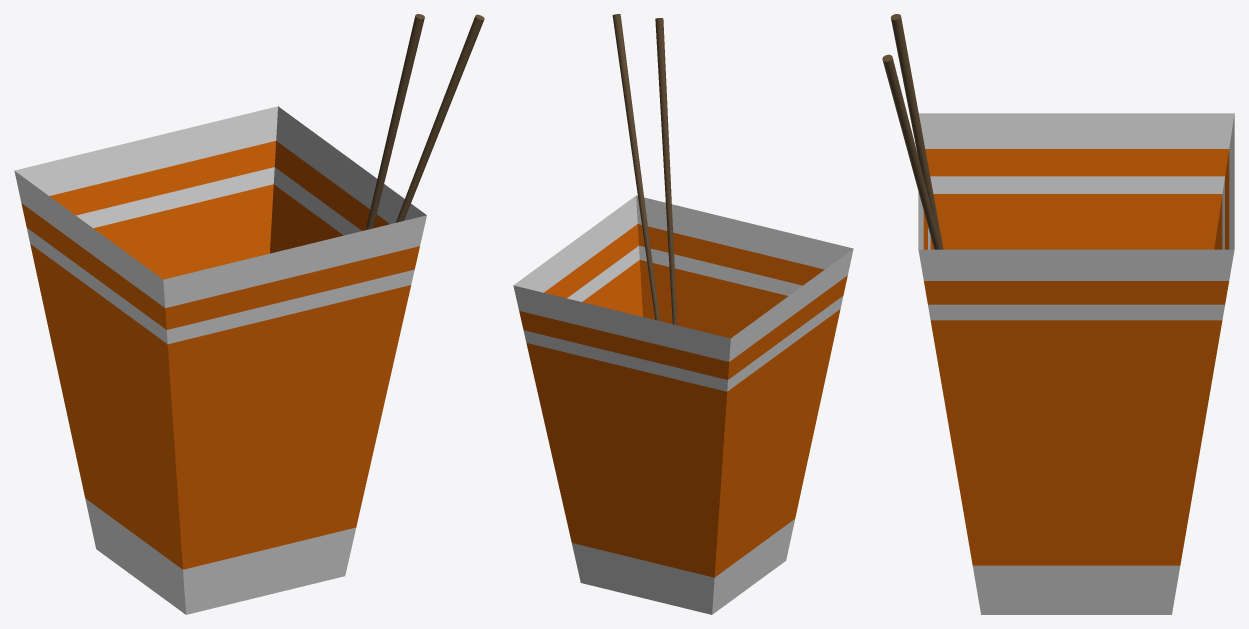
The model's file is item5.fbx.
3 renders of one model, left to right at view 1: azimuth 30°, elevation 25°; view 2: azimuth 150°, elevation 25°; view 3: azimuth 270°, elevation 25°, orthographic. The views are drawn at different scales.
Visible parts, largest first — view 1: Cube.001; view 2: Cube.001; view 3: Cube.001.
Part boxes in pixels (x1,y1,x2,y2): Cube.001: (14, 14, 484, 614); Cube.001: (513, 14, 853, 614); Cube.001: (882, 14, 1234, 614).
Size of the model in its own units: 262 by 476 by 246.
